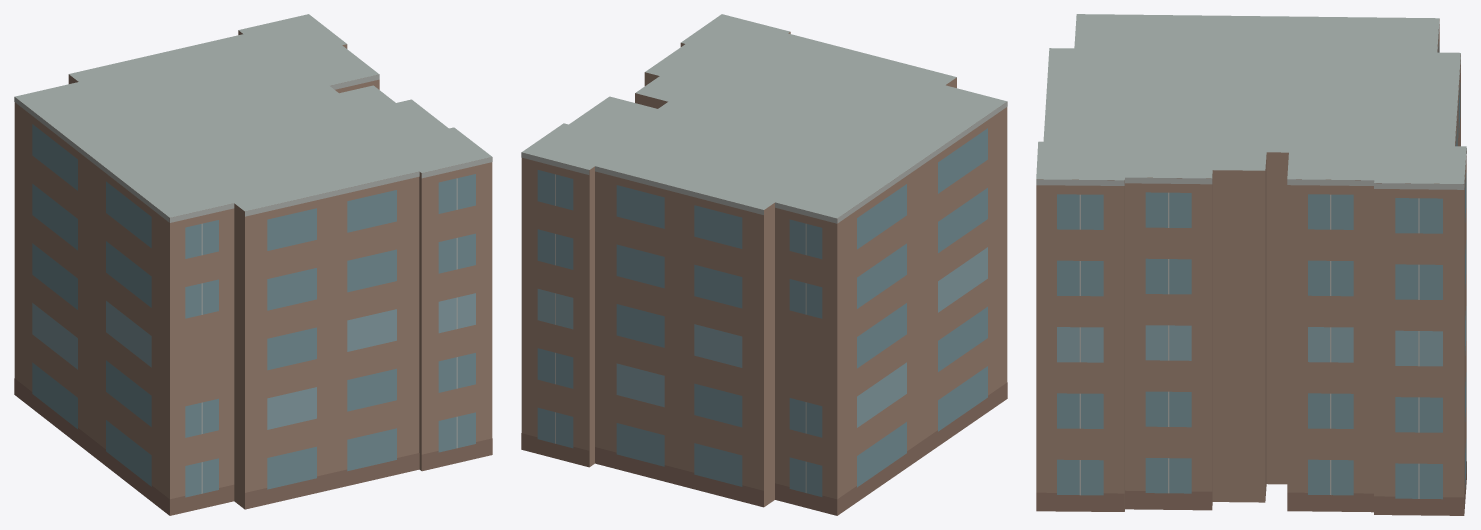
Rendered from survey-upis-33042519.glb.
3 renders of one model, left to right at view 1: azimuth 30°, elevation 25°; view 2: azimuth 150°, elevation 25°; view 3: azimuth 270°, elevation 25°, orthographic. The views are drawn at different scales.
Parts seen in each view (by area): view 1: survey-upis-33042519.tmp; view 2: survey-upis-33042519.tmp; view 3: survey-upis-33042519.tmp.
Part boxes in pixels (x1,y1,x2,y2): survey-upis-33042519.tmp: [14, 14, 492, 515]; survey-upis-33042519.tmp: [521, 14, 1007, 515]; survey-upis-33042519.tmp: [1036, 14, 1466, 515].
Bounding box in the file's own units: 15.29 × 13.9 × 16.36.
